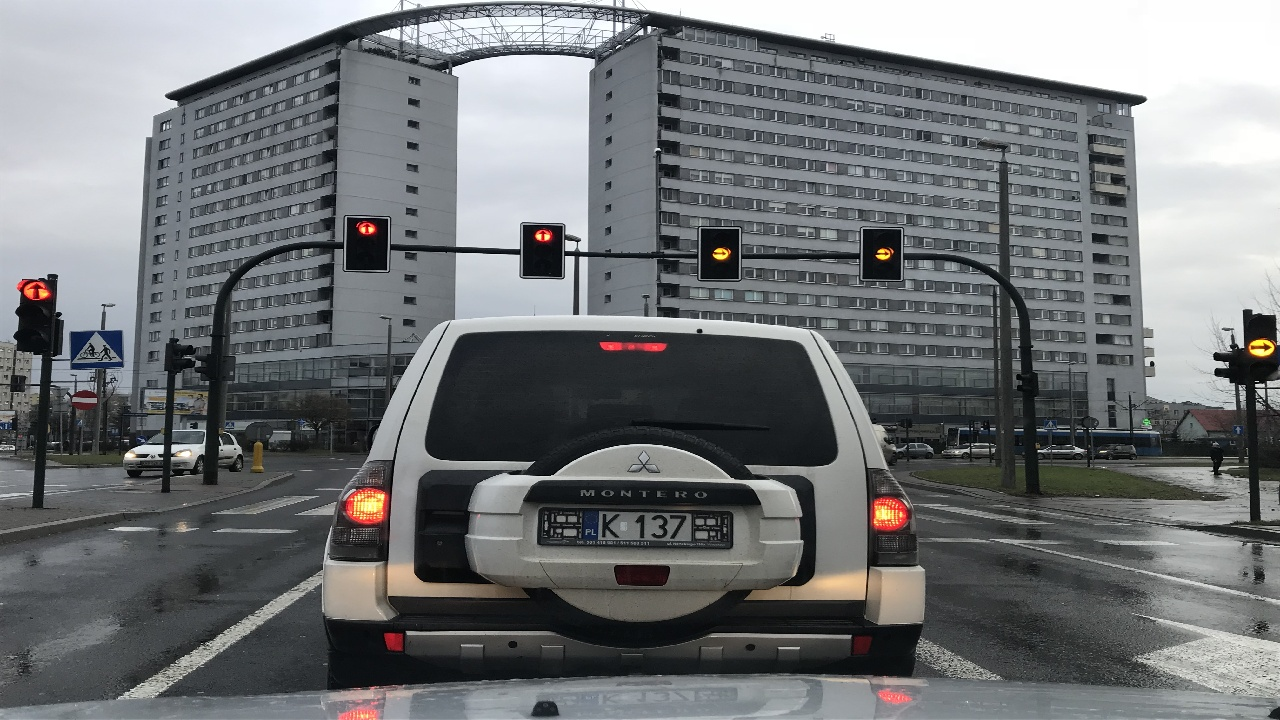B2: (71, 390, 98, 411)
D6b: (71, 329, 124, 370)
Red: (22, 277, 51, 351), (356, 219, 376, 268), (536, 224, 555, 274)
